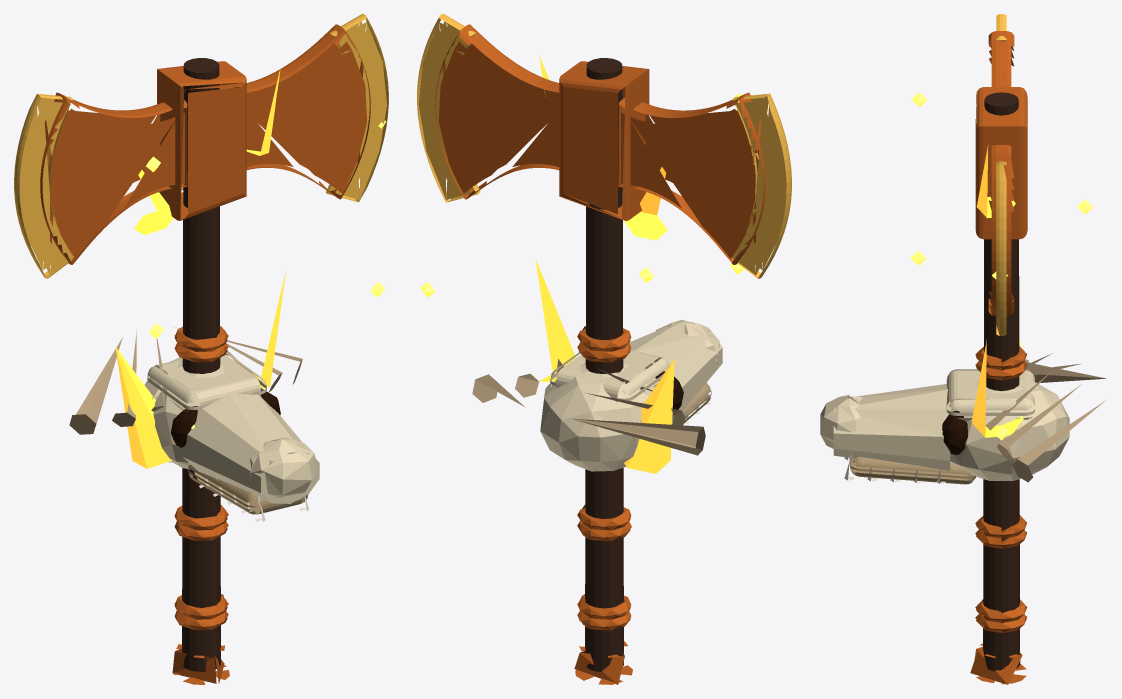
File: dragonclaw_great_axe.glb
The picture shows the model from 3 angles, left to right: view 1: azimuth 30°, elevation 25°; view 2: azimuth 150°, elevation 25°; view 3: azimuth 270°, elevation 25°; orthographic projection. The views are drawn at different scales.
Visible parts, largest first — view 1: dragonclaw_great_axe; view 2: dragonclaw_great_axe; view 3: dragonclaw_great_axe.
Boxes of the visible parts, box(x1,y1,x2,y2) form: dragonclaw_great_axe: box(14, 14, 388, 684); dragonclaw_great_axe: box(417, 14, 791, 684); dragonclaw_great_axe: box(820, 14, 1105, 684).
Bounding box in the file's own units: 1.09 × 1.73 × 0.772.
